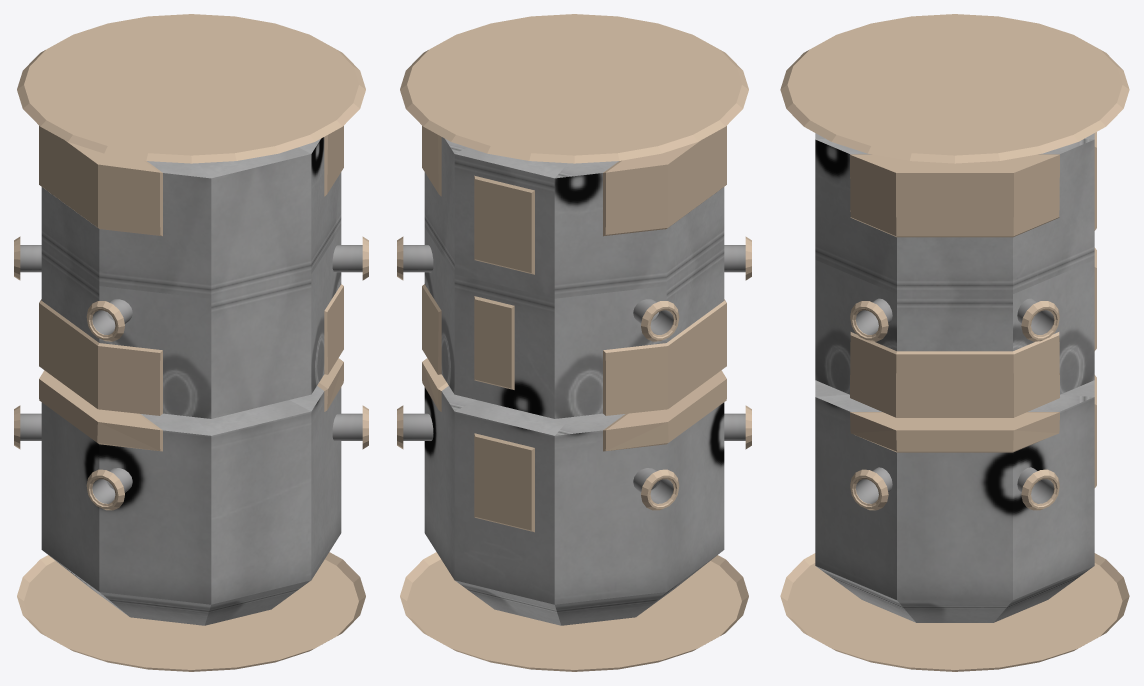
File: mol_iva_large_module.obj
The picture shows the model from 3 angles, left to right: view 1: azimuth 30°, elevation 25°; view 2: azimuth 150°, elevation 25°; view 3: azimuth 270°, elevation 25°; orthographic projection.
Parts seen in each view (by area): view 1: i1, im1; view 2: im1, i1; view 3: im1, i1.
Part boxes in pixels (x1,y1,x2,y2): i1: [20, 137, 362, 625]; im1: [14, 14, 368, 671]; im1: [397, 14, 751, 671]; i1: [403, 137, 745, 625]; im1: [780, 14, 1129, 671]; i1: [815, 133, 1094, 622].
Bounding box in the file's own units: 1.88 × 3.06 × 1.87.
